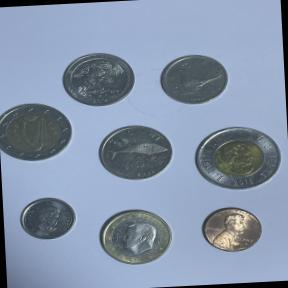coin: (188, 118, 288, 199), (92, 203, 180, 271), (92, 118, 178, 187), (56, 48, 140, 111), (0, 99, 73, 167), (196, 200, 268, 257), (14, 192, 80, 244)
